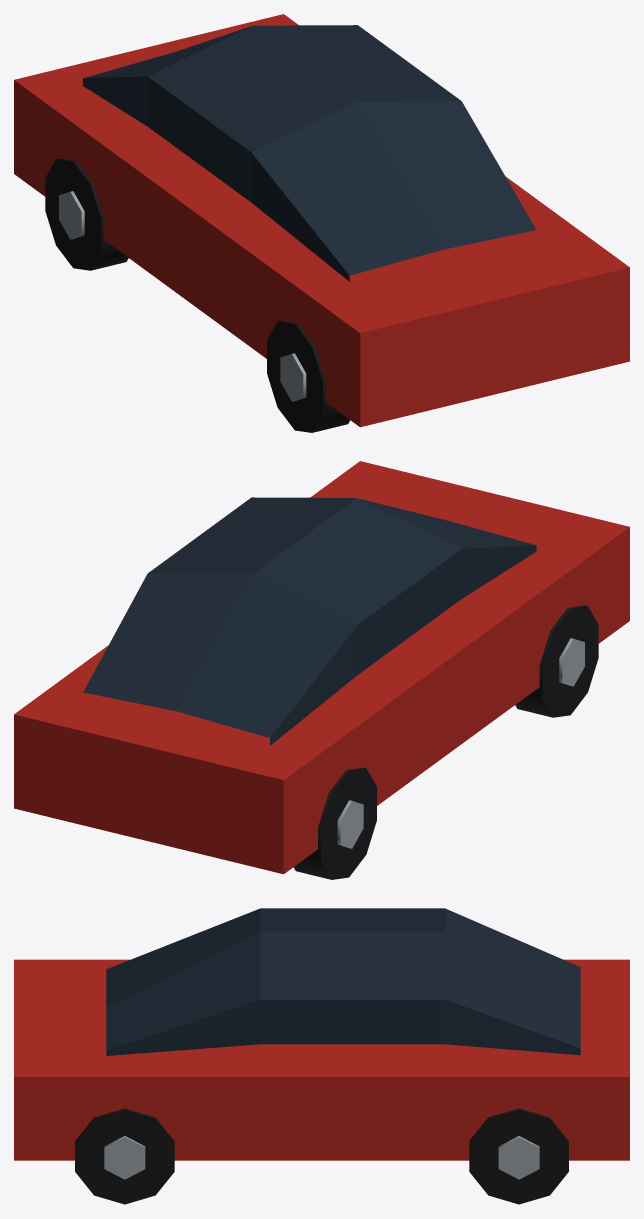
Rendered from veh_ground_car_a07.glb.
3 renders of one model, top to bottom at view 1: azimuth 30°, elevation 25°; view 2: azimuth 150°, elevation 25°; view 3: azimuth 270°, elevation 25°, orthographic. The views are drawn at different scales.
Visible parts, largest first — view 1: body, wheel_0, wheel_2; view 2: body, wheel_2, wheel_0; view 3: body, wheel_1, wheel_3.
Part boxes in pixels (bbox=[...]): body: bbox=[14, 14, 629, 427]; wheel_0: bbox=[45, 158, 128, 270]; wheel_2: bbox=[267, 320, 350, 432]; body: bbox=[14, 461, 629, 874]; wheel_2: bbox=[515, 605, 598, 717]; wheel_0: bbox=[293, 767, 376, 879]; body: bbox=[14, 908, 629, 1160]; wheel_1: bbox=[469, 1108, 568, 1204]; wheel_3: bbox=[75, 1108, 174, 1204].
Size of what is drawn, in the model's own units: 1.88 by 1.53 by 4.
